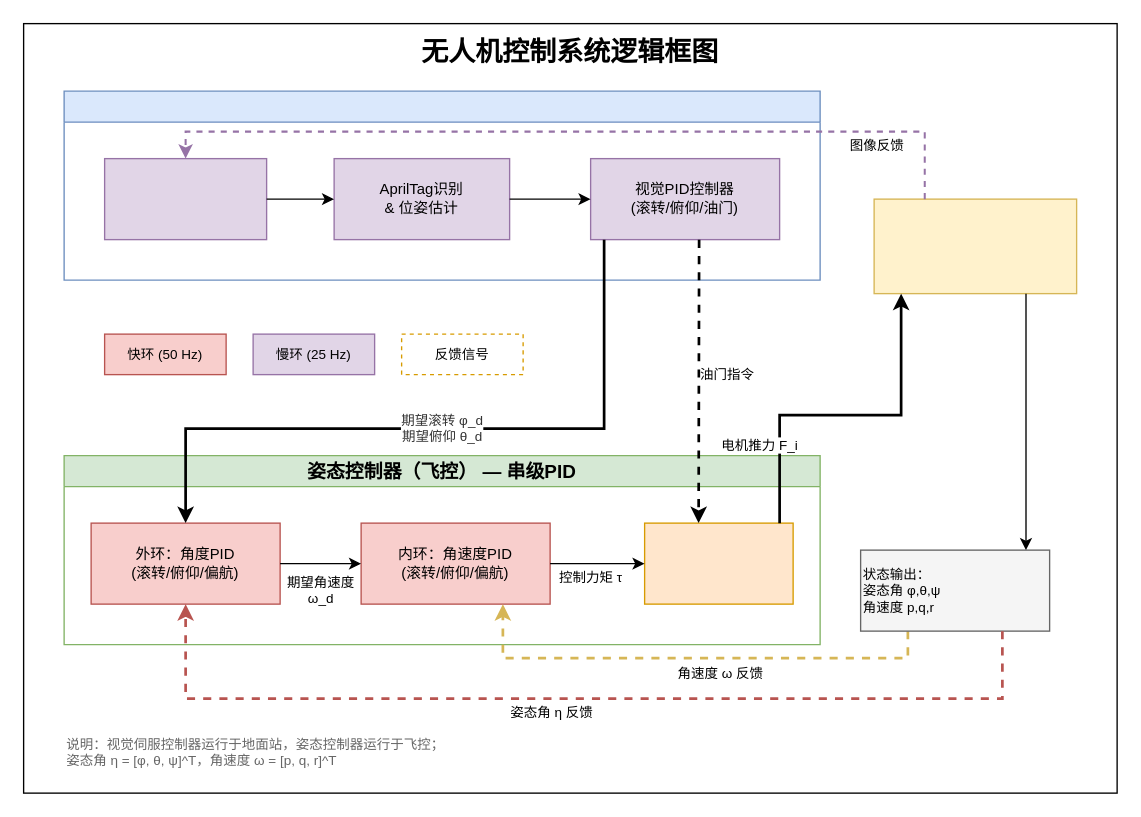
The diagram is 1141 pixels wide and 817 high, and some of its shapes have lost their labels. Each missing label, with the box of its shape:
力矩分配 & 电机: (643, 522, 793, 604)
四旋翼无人机 动力学模型: (873, 198, 1077, 294)
机载摄像头 (图像采集): (103, 157, 267, 240)
视觉伺服控制器（地面站）: (63, 90, 820, 280)
